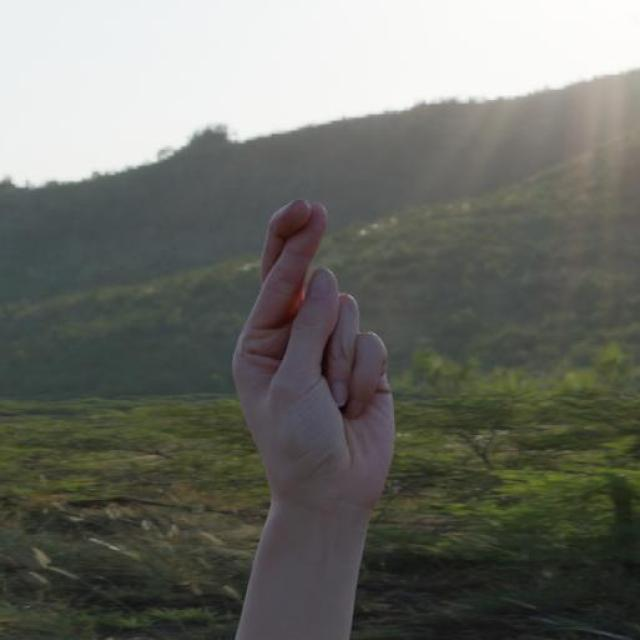R: (229, 190, 405, 526)
